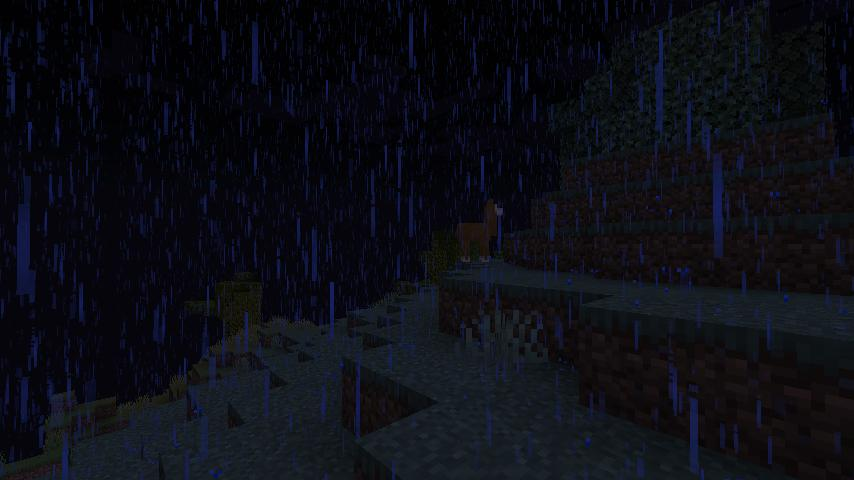llama: (451, 194, 506, 266)
